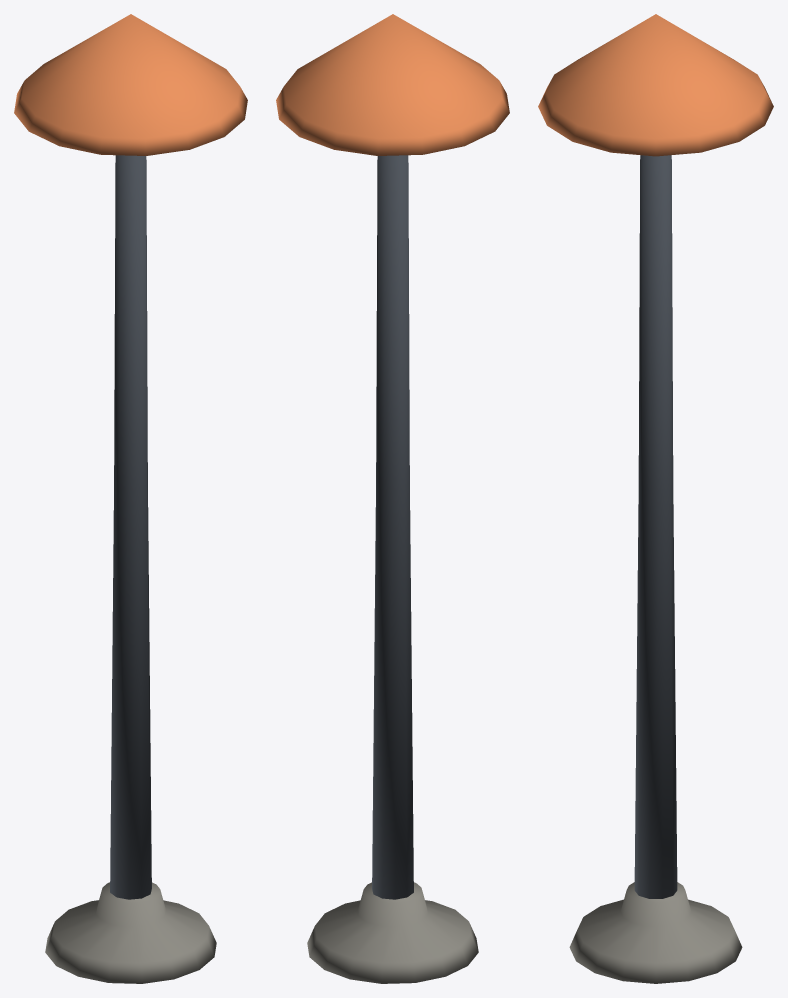
The model's file is prop_lamp.glb.
3 renders of one model, left to right at view 1: azimuth 30°, elevation 25°; view 2: azimuth 150°, elevation 25°; view 3: azimuth 270°, elevation 25°, orthographic.
Visible parts, largest first — view 1: post, shade, base; view 2: post, shade, base; view 3: post, shade, base.
Part boxes in pixels (bbox=[...]): post: bbox=[110, 155, 151, 899]; shade: bbox=[14, 14, 247, 155]; base: bbox=[45, 882, 216, 983]; post: bbox=[372, 155, 413, 899]; shade: bbox=[276, 14, 509, 155]; base: bbox=[307, 882, 478, 983]; post: bbox=[634, 155, 677, 898]; shade: bbox=[538, 14, 773, 156]; base: bbox=[569, 882, 742, 983].
Bounding box in the file's own units: 0.6 × 2.62 × 0.6.
